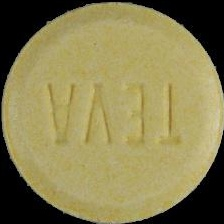0615-8010: (0, 0, 224, 224)
